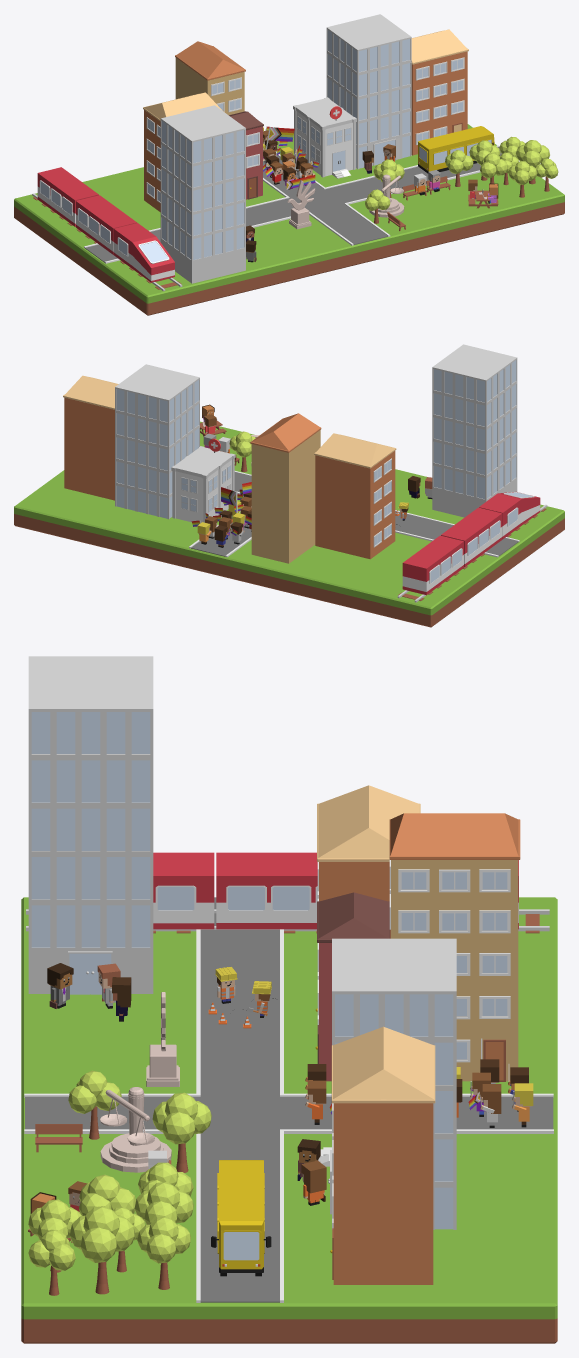
The model's file is ground12.glb.
3 views of the same model, one above another, from view 1: azimuth 30°, elevation 25°; view 2: azimuth 150°, elevation 25°; view 3: azimuth 270°, elevation 25° (orthographic). The views are drawn at different scales.
Parts seen in each view (by area): view 1: Cube, Migranten, Löhne, Haus, Zug, Straße, Haus2, Park, Arzt, Parade, Bus, Menschenrechte (+2 smaller); view 2: Cube, Haus, Migranten, Löhne, Zug, Haus2, Arzt, Straße, Parade, Park, Cube.231; view 3: Cube, Migranten, Haus, Straße, Haus2, Löhne, Park, Zug, Bus, Parade, Waage, Menschenrechte (+1 smaller).
Part boxes in pixels (bbox=[...]): Cube: bbox=[14, 124, 564, 315]; Migranten: bbox=[160, 105, 256, 283]; Löhne: bbox=[326, 14, 411, 173]; Haus: bbox=[143, 41, 263, 212]; Zug: bbox=[32, 167, 182, 291]; Straße: bbox=[84, 145, 519, 263]; Haus2: bbox=[411, 29, 468, 155]; Park: bbox=[365, 136, 558, 231]; Arzt: bbox=[293, 97, 356, 178]; Parade: bbox=[263, 126, 318, 189]; Bus: bbox=[418, 126, 494, 173]; Menschenrechte: bbox=[287, 180, 315, 229]; Cube: bbox=[14, 421, 564, 627]; Haus: bbox=[250, 413, 396, 563]; Migranten: bbox=[408, 344, 517, 517]; Löhne: bbox=[115, 364, 199, 519]; Zug: bbox=[397, 491, 547, 602]; Haus2: bbox=[63, 375, 118, 500]; Arzt: bbox=[171, 438, 235, 522]; Straße: bbox=[189, 471, 519, 557]; Parade: bbox=[191, 482, 251, 547]; Park: bbox=[203, 431, 255, 472]; Cube.231: bbox=[200, 404, 226, 436]; Cube: bbox=[21, 897, 557, 1343]; Migranten: bbox=[28, 656, 153, 1021]; Haus: bbox=[315, 785, 520, 1081]; Straße: bbox=[24, 897, 553, 1302]; Haus2: bbox=[330, 1026, 435, 1284]; Löhne: bbox=[297, 938, 456, 1229]; Park: bbox=[28, 1070, 211, 1295]; Zug: bbox=[26, 852, 549, 933]; Bus: bbox=[211, 1160, 271, 1276]; Parade: bbox=[305, 1038, 533, 1127]; Waage: bbox=[100, 1087, 171, 1172]; Menschenrechte: bbox=[146, 992, 179, 1086].
Bounding box in the file's own units: 3.63 × 1.34 × 2.
